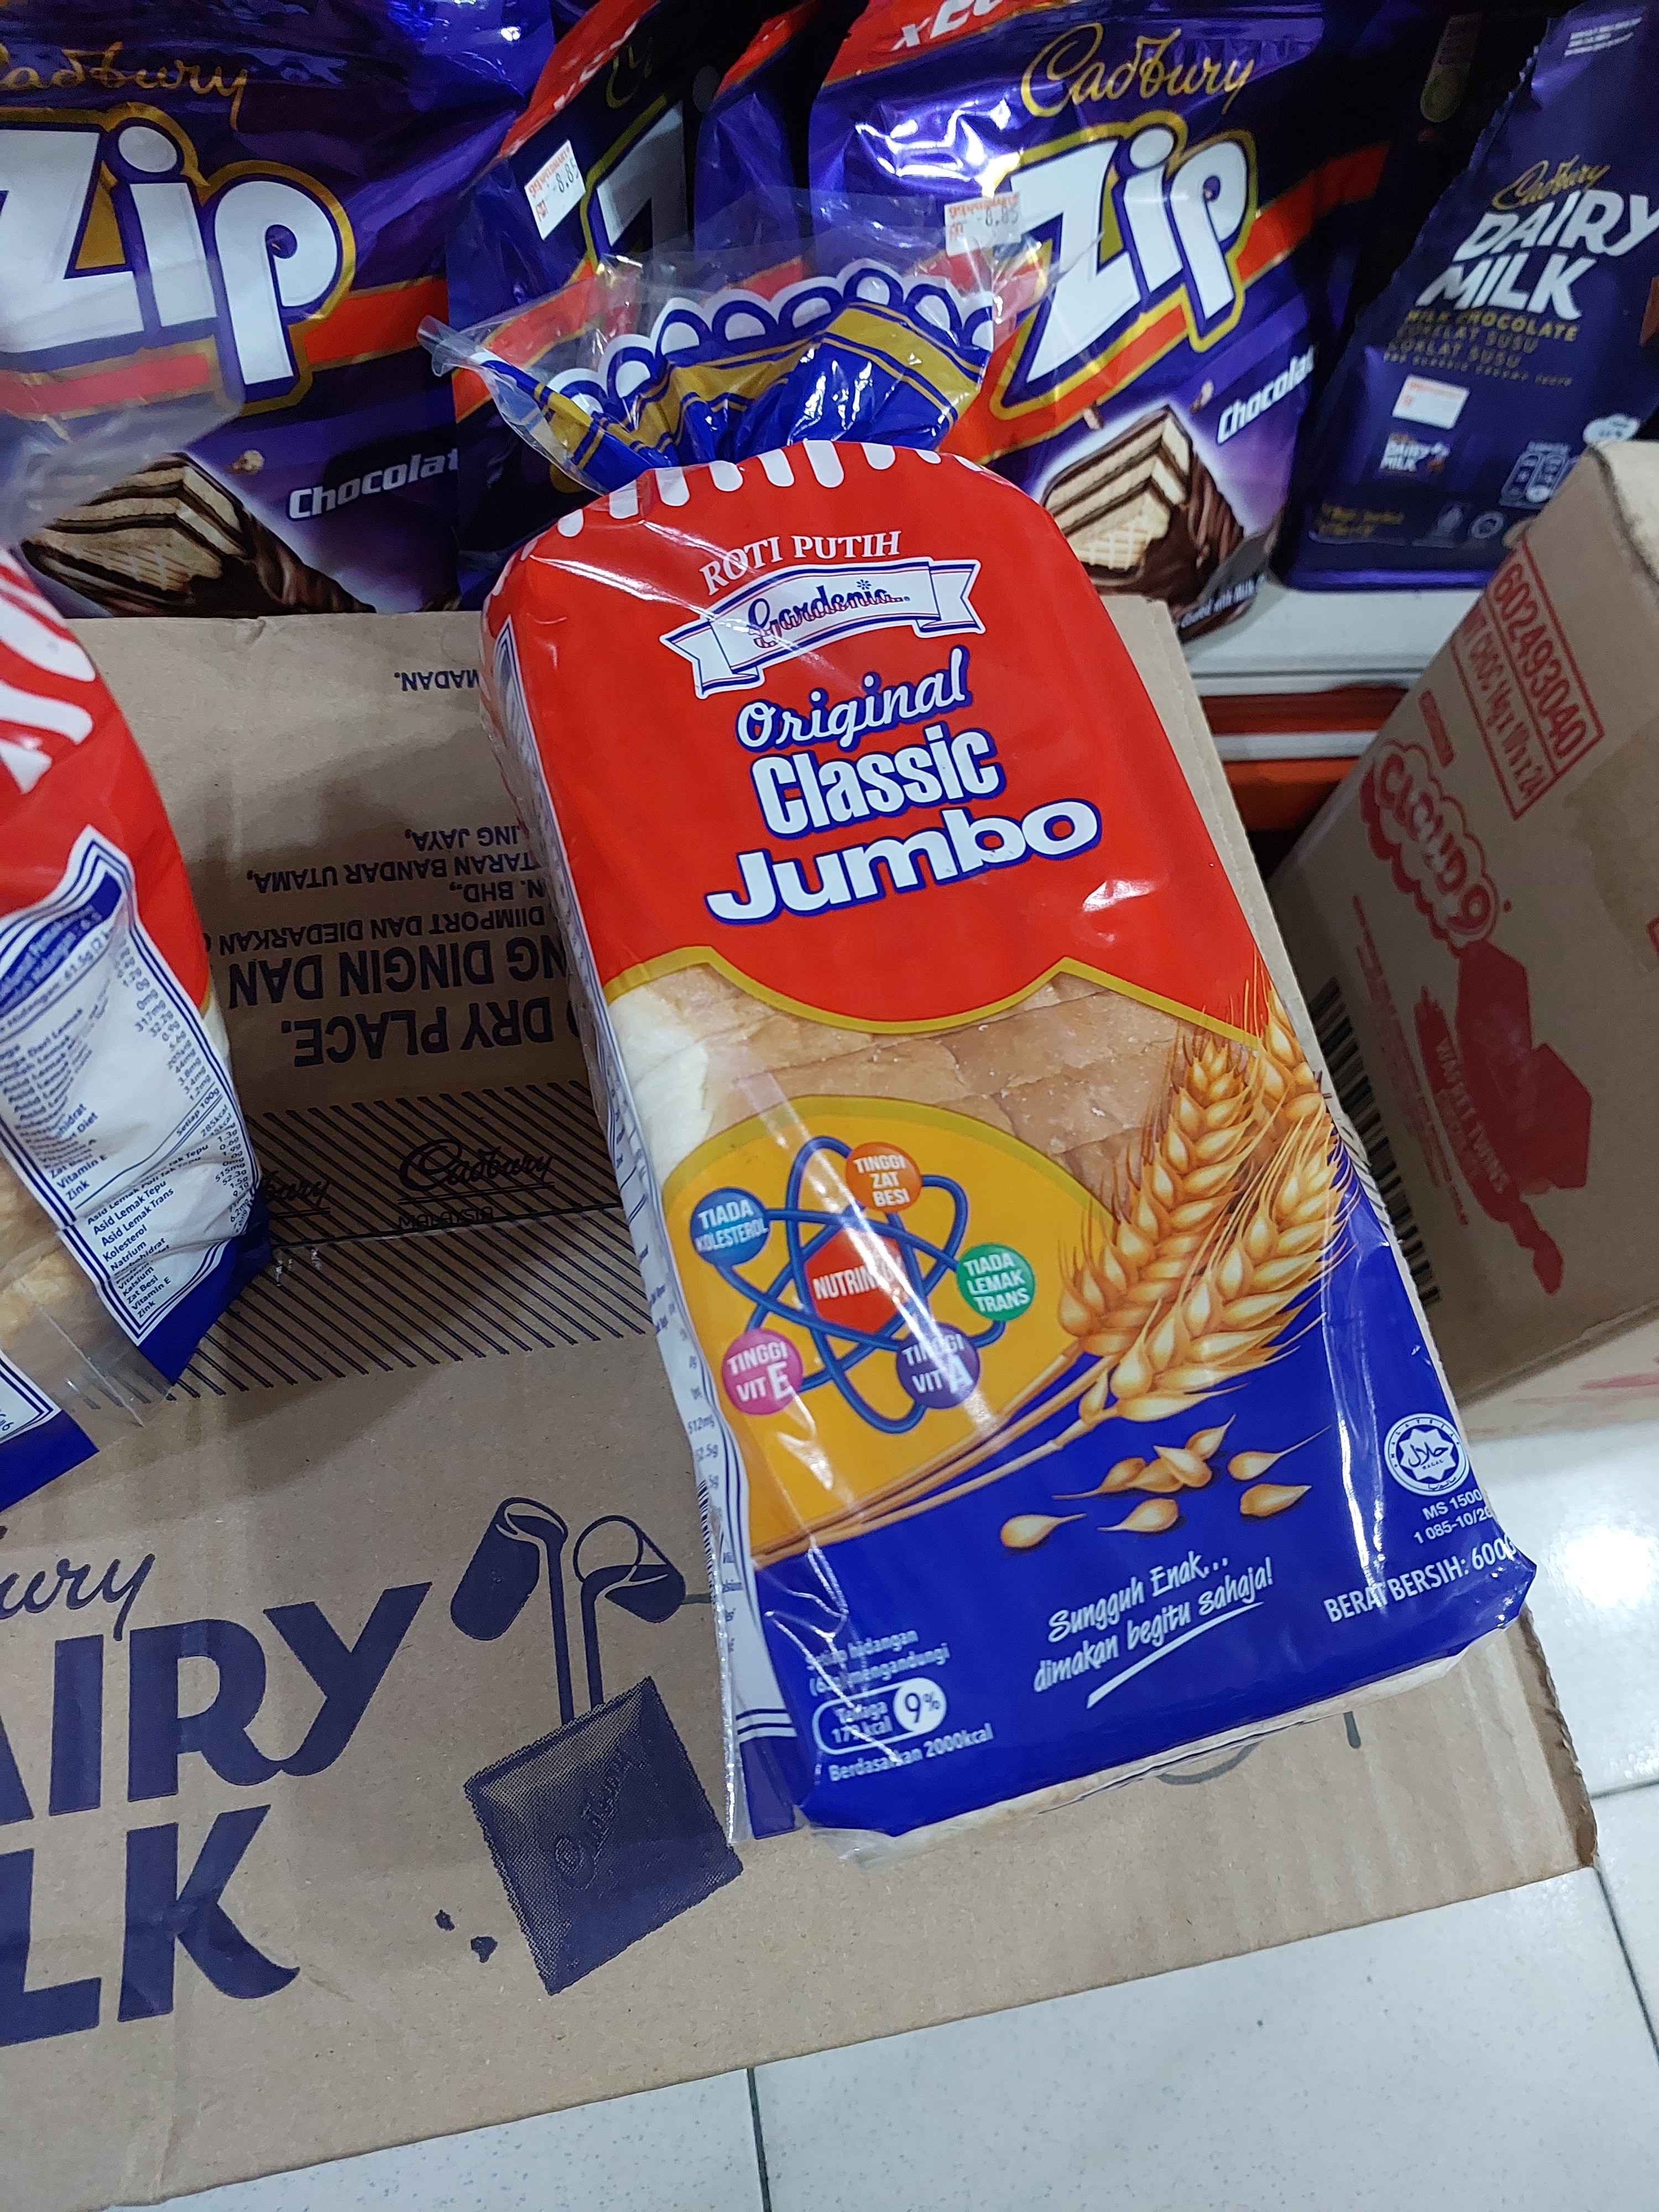bread: (483, 310, 1547, 1857)
